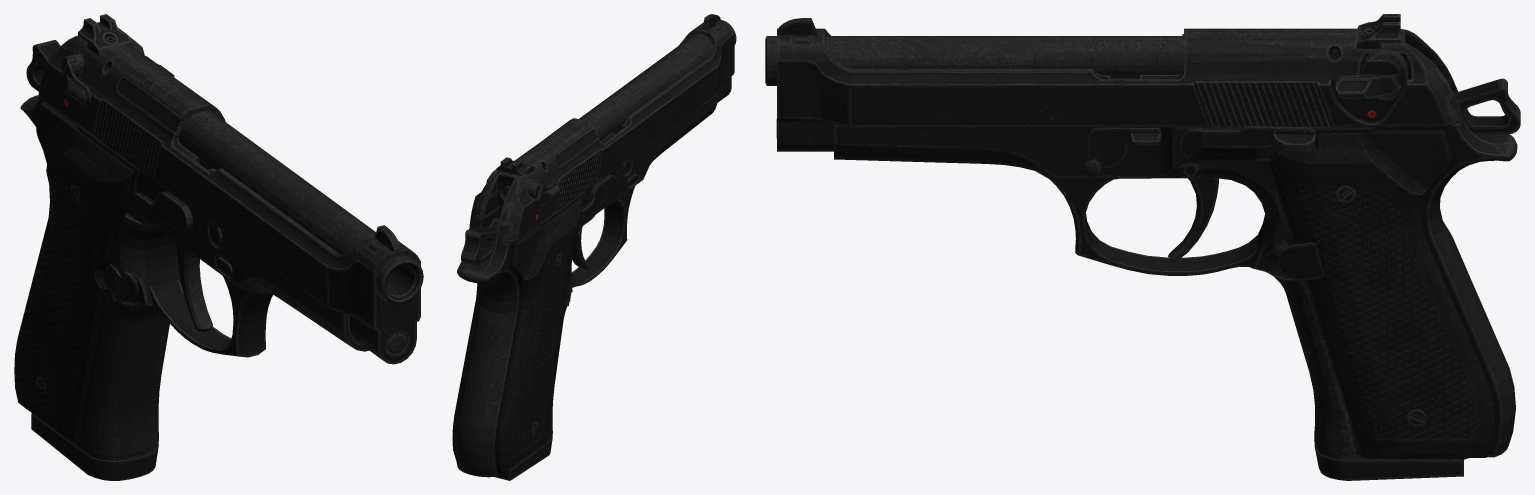
Rendered from makarov_pistol_tp.glb.
3 views of the same model, side by side, from view 1: azimuth 30°, elevation 25°; view 2: azimuth 150°, elevation 25°; view 3: azimuth 270°, elevation 25° (orthographic). The views are drawn at different scales.
Parts seen in each view (by area): view 1: base, slide, mag, trigger, hammer; view 2: base, slide, hammer, mag, trigger; view 3: base, slide, stopper, mag, hammer, trigger.
Part boxes in pixels (x1,y1,x2,y2): base: [14, 95, 423, 460]; slide: [38, 14, 420, 364]; mag: [31, 413, 158, 480]; trigger: [175, 241, 212, 331]; hammer: [26, 40, 60, 91]; base: [452, 20, 736, 477]; slide: [469, 14, 734, 242]; hammer: [461, 217, 499, 265]; mag: [493, 437, 552, 480]; trigger: [572, 227, 590, 269]; base: [765, 36, 1517, 459]; slide: [777, 14, 1458, 151]; stopper: [1179, 126, 1315, 160]; mag: [1314, 444, 1463, 480]; hammer: [1454, 78, 1520, 134]; trigger: [1168, 178, 1218, 262].
Size of the model in its own units: 0.000974 by 0.00411 by 0.00632.
Materials: 12 (12 with a texture image).
